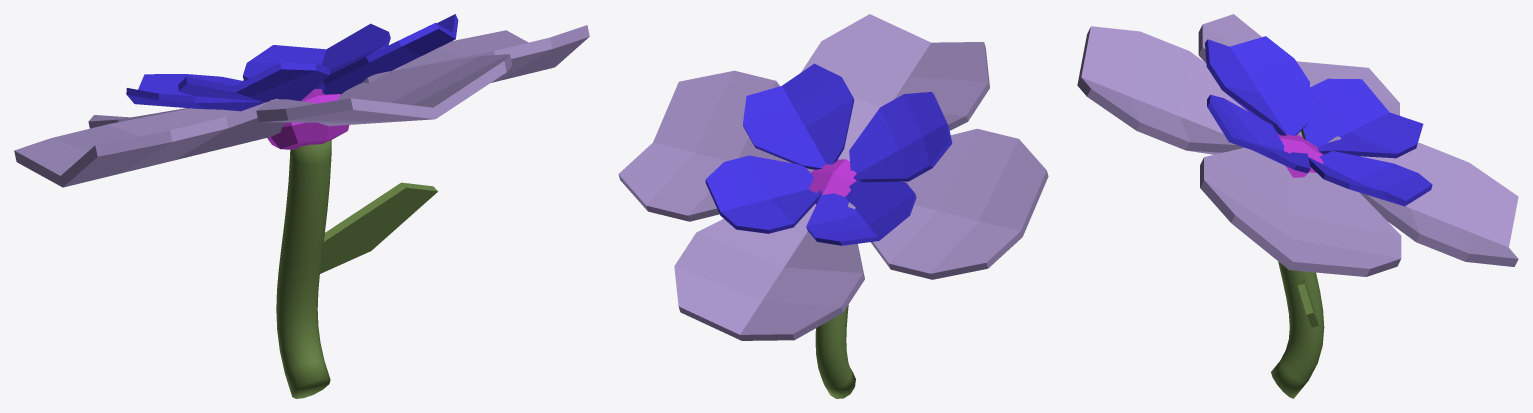
The model's file is Flower.fbx.
3 renders of one model, left to right at view 1: azimuth 30°, elevation 25°; view 2: azimuth 150°, elevation 25°; view 3: azimuth 270°, elevation 25°, orthographic. The views are drawn at different scales.
Visible parts, largest first — view 1: Flower; view 2: Flower; view 3: Flower.
Part boxes in pixels (<box>): Flower: <box>14,14,589,398</box>; Flower: <box>618,14,1048,398</box>; Flower: <box>1077,14,1518,398</box>.
Size of the model in its own units: 330 by 261 by 307.
